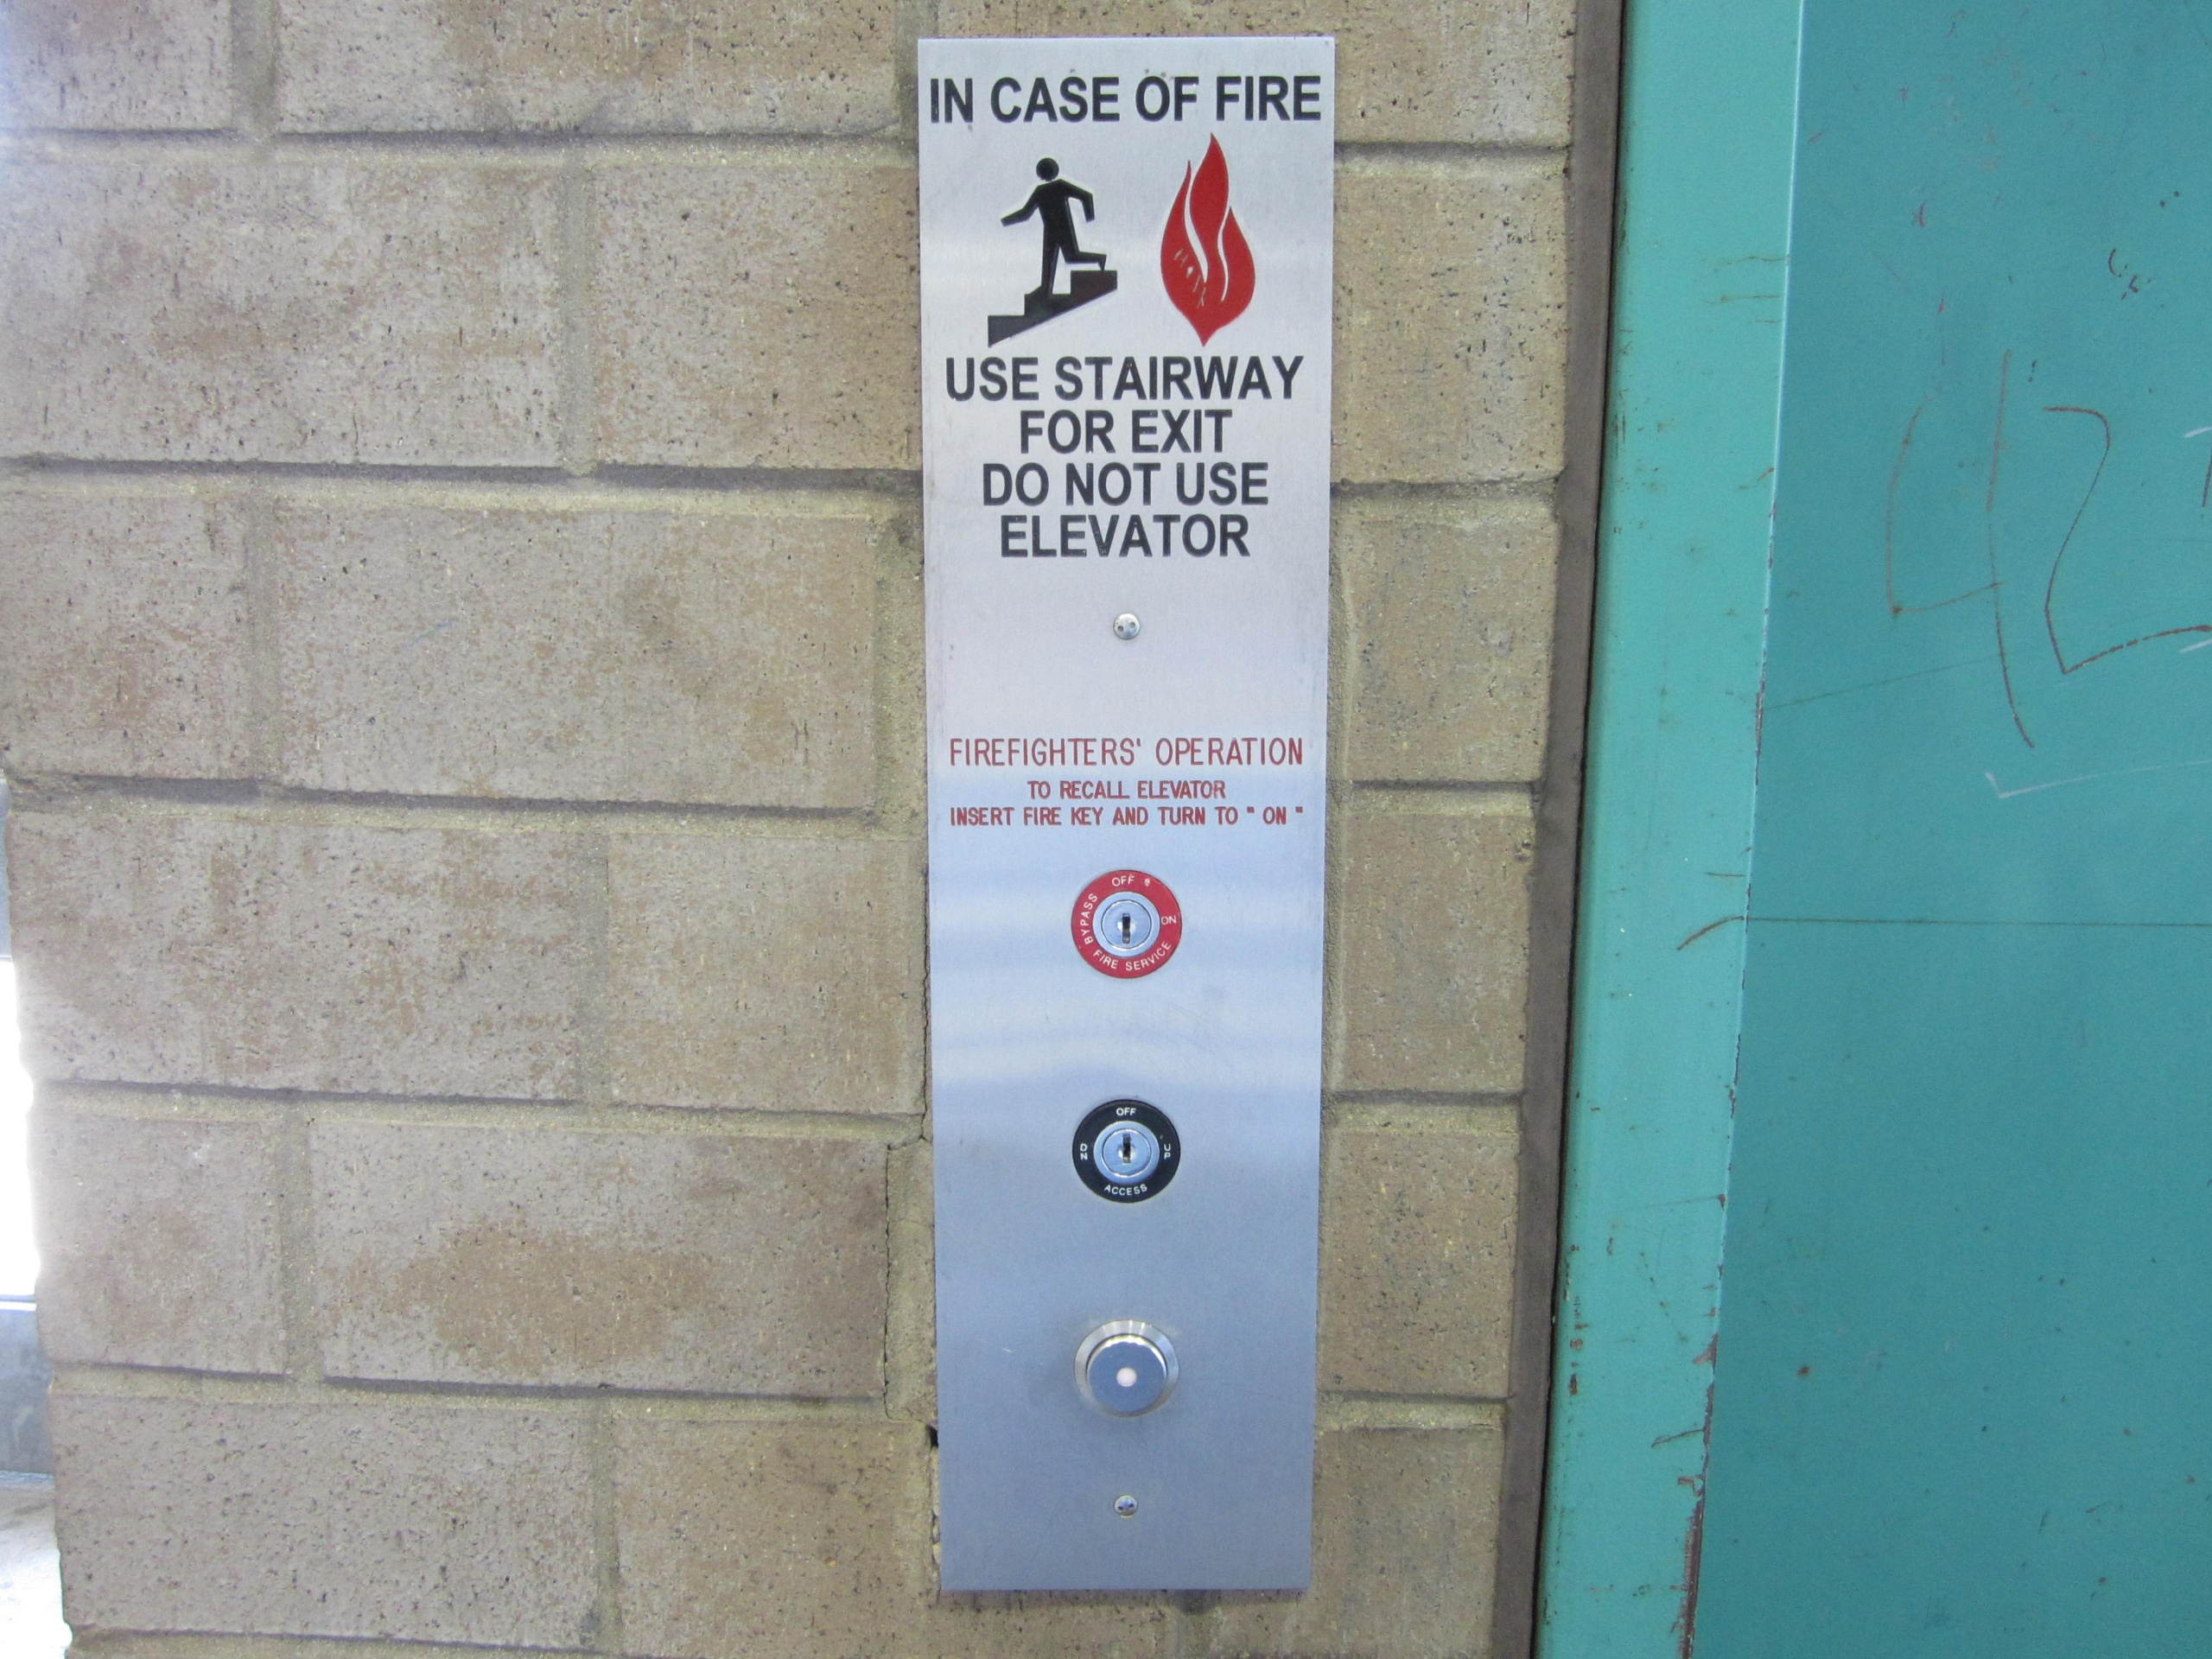empty: (1066, 1314, 1186, 1422)
keyhole: (1066, 864, 1190, 986), (1068, 1094, 1186, 1208)
